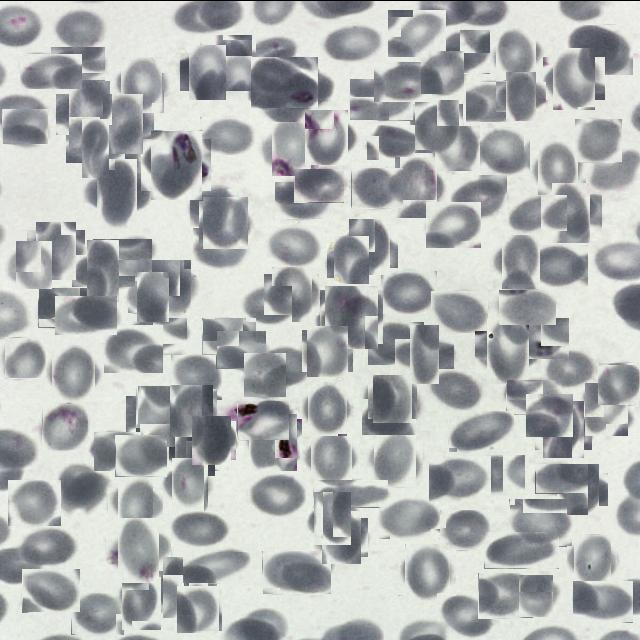red blood cell: (322, 287, 381, 345), (566, 24, 633, 74), (89, 165, 145, 220), (262, 550, 331, 594), (509, 498, 572, 546), (63, 86, 117, 141), (111, 522, 166, 576), (481, 324, 535, 378), (159, 560, 213, 614), (429, 455, 491, 501), (104, 324, 163, 372), (387, 9, 446, 57), (484, 531, 559, 568), (448, 410, 514, 452), (389, 160, 442, 212), (131, 389, 183, 442), (247, 416, 300, 468), (450, 174, 507, 222), (402, 546, 454, 598), (202, 36, 254, 88), (548, 52, 600, 104), (56, 464, 110, 514), (474, 127, 530, 175), (349, 78, 413, 120), (437, 592, 494, 639), (425, 201, 481, 248), (527, 244, 588, 287), (378, 497, 440, 539), (247, 473, 306, 517), (572, 580, 633, 622), (22, 568, 80, 612), (478, 572, 533, 618), (433, 29, 490, 73), (48, 347, 98, 397), (306, 431, 356, 481), (118, 59, 168, 109), (538, 403, 588, 453), (31, 224, 81, 274), (546, 187, 596, 237), (98, 98, 148, 148), (128, 313, 187, 355), (381, 268, 437, 312), (303, 112, 352, 162), (321, 22, 382, 62), (8, 479, 61, 525), (512, 317, 570, 359), (55, 295, 117, 334), (368, 321, 424, 364), (412, 101, 461, 150), (147, 264, 196, 313), (345, 222, 394, 271), (201, 198, 250, 247), (18, 526, 78, 566), (431, 290, 488, 332), (265, 225, 321, 267), (428, 368, 484, 410), (371, 436, 420, 484), (38, 287, 96, 327), (374, 61, 432, 101), (534, 144, 582, 192), (268, 270, 316, 318), (167, 386, 215, 434), (582, 384, 630, 432), (80, 246, 128, 294), (193, 227, 249, 268), (171, 354, 222, 399), (468, 454, 525, 494), (92, 238, 152, 276), (304, 384, 351, 432), (71, 592, 124, 634), (54, 8, 107, 50), (268, 125, 315, 172), (171, 508, 229, 546), (115, 434, 167, 476), (182, 551, 250, 583), (20, 53, 82, 88), (493, 31, 540, 77), (118, 579, 165, 625), (466, 81, 520, 121), (275, 181, 333, 218), (351, 167, 403, 208), (172, 427, 218, 473), (498, 238, 544, 284), (318, 514, 364, 560), (304, 327, 350, 373), (42, 403, 88, 449), (184, 48, 230, 94), (574, 118, 622, 162), (510, 193, 567, 230), (313, 479, 388, 507), (439, 509, 490, 550), (200, 116, 255, 154), (542, 349, 597, 387), (498, 289, 556, 325), (237, 400, 289, 440), (310, 494, 355, 540), (113, 482, 158, 527), (176, 586, 220, 632), (436, 124, 480, 170), (526, 393, 573, 436), (366, 124, 422, 160), (202, 317, 256, 354), (168, 461, 212, 506), (402, 331, 447, 375), (370, 376, 414, 421), (506, 379, 562, 414), (362, 398, 416, 434), (570, 536, 614, 580), (190, 417, 233, 462), (261, 347, 313, 384), (216, 330, 266, 368), (74, 126, 117, 170), (420, 49, 464, 92), (50, 46, 105, 80), (244, 352, 286, 396), (94, 431, 141, 470), (12, 242, 54, 285), (190, 188, 237, 226), (562, 468, 604, 510), (330, 238, 372, 280), (598, 363, 640, 404), (294, 168, 344, 202), (5, 336, 46, 377), (132, 276, 174, 316), (246, 285, 292, 321), (2, 108, 48, 144), (501, 76, 541, 116), (535, 463, 588, 493), (517, 576, 556, 614)
trophozoite: (146, 133, 207, 194), (251, 56, 318, 107)
